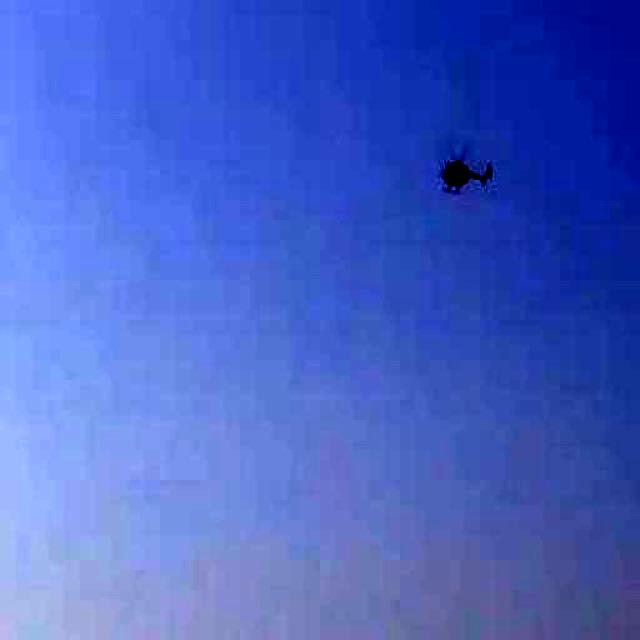drone: (400, 99, 514, 229)
